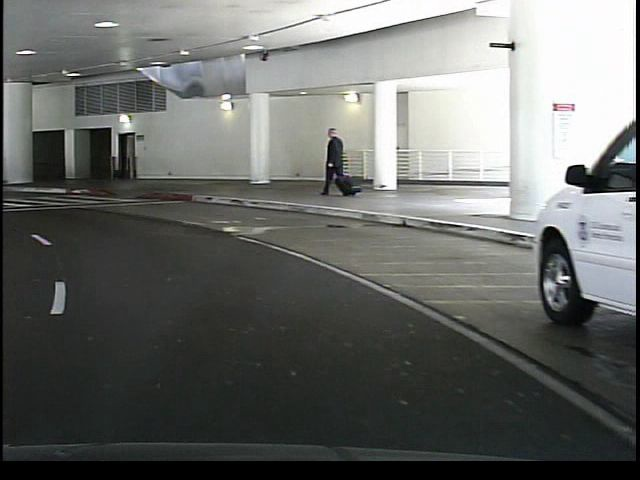person: (313, 125, 350, 203)
